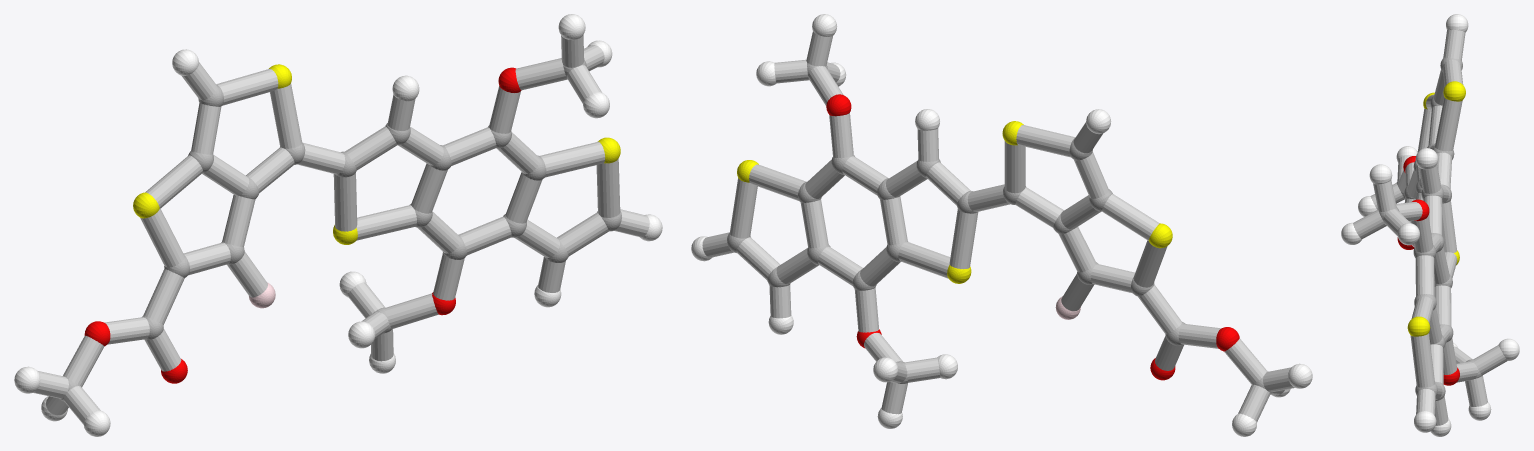
Rendered from color.glb.
3 renders of one model, left to right at view 1: azimuth 30°, elevation 25°; view 2: azimuth 150°, elevation 25°; view 3: azimuth 270°, elevation 25°, orthographic. The views are drawn at different scales.
Parts seen in each view (by area): view 1: grp15205, grp8689, grp1, grp7241, grp13395; view 2: grp15205, grp8689, grp1, grp7241, grp13395; view 3: grp15205, grp8689, grp1, grp7241, grp13395.
Part boxes in pixels (<box>): grp15205: <box>33,35,649,424</box>; grp8689: <box>14,14,662,436</box>; grp1: <box>59,60,621,401</box>; grp7241: <box>133,64,620,244</box>; grp13395: <box>84,67,521,383</box>; grp15205: <box>702,31,1294,421</box>; grp8689: <box>691,14,1312,436</box>; grp1: <box>727,63,1271,393</box>; grp7241: <box>737,121,1172,283</box>; grp13395: <box>826,94,1239,380</box>; grp15205: <box>1353,29,1507,425</box>; grp8689: <box>1341,14,1519,436</box>; grp1: <box>1379,57,1482,401</box>; grp7241: <box>1407,81,1465,336</box>; grp13395: <box>1397,156,1459,385</box>.
Bounding box in the file's own units: 16.76 × 9.37 × 4.75.
